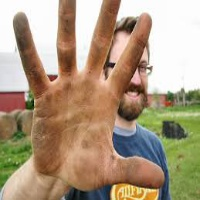ring: (55, 2, 78, 75)
